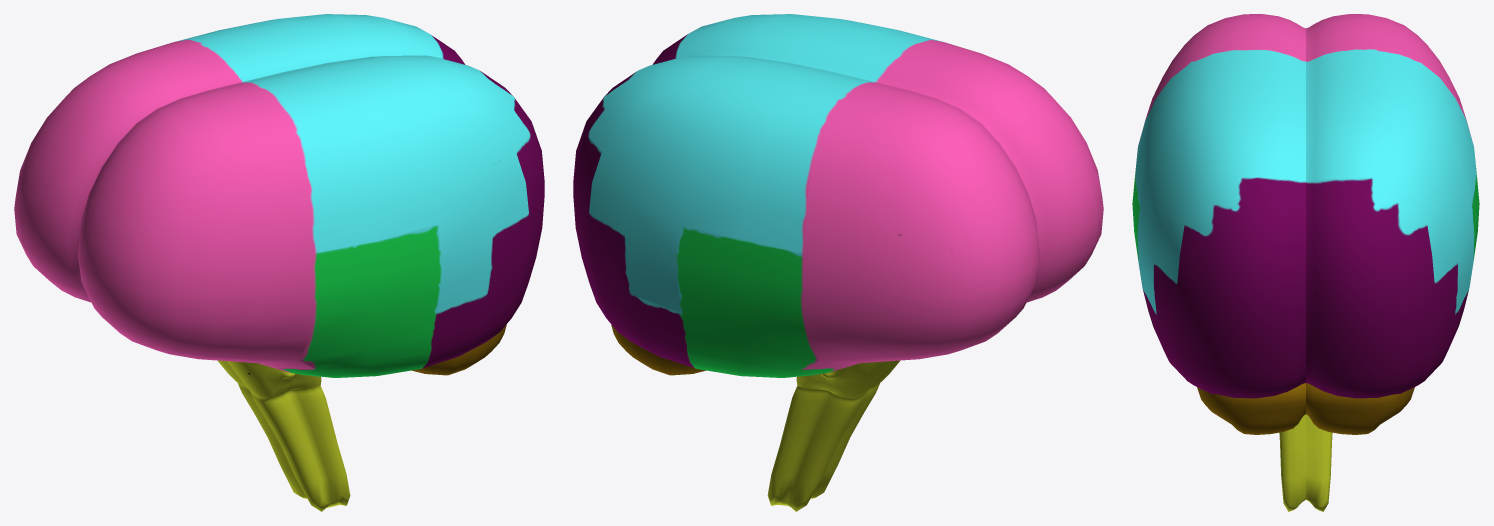
The model's file is Brain.FBX.
3 views of the same model, side by side, from view 1: azimuth 30°, elevation 25°; view 2: azimuth 150°, elevation 25°; view 3: azimuth 270°, elevation 25° (orthographic). The views are drawn at different scales.
Visible parts, largest first — view 1: front_left, top_left, front_right, bottom_left, Top_right, back_left, brainstem_left, brainstem_right, cerebellum_left; view 2: front_right, Top_right, front_left, bottom_right, top_left, Back_right, brainstem_right, brainstem_left, cerebellum_right; view 3: Back_right, back_left, Top_right, top_left, front_right, front_left, cerebellum_left, cerebellum_right, brainstem_left, brainstem_right.
Part boxes in pixels (box(x1,y1,x2,y2)): front_left: box(78, 82, 315, 371); top_left: box(241, 55, 530, 313); front_right: box(14, 40, 240, 302); bottom_left: box(278, 224, 440, 377); Top_right: box(175, 14, 441, 82); back_left: box(421, 71, 544, 368); brainstem_left: box(227, 361, 350, 511); brainstem_right: box(218, 360, 307, 498); cerebellum_left: box(412, 324, 506, 375); front_right: box(802, 82, 1039, 371); Top_right: box(587, 55, 876, 313); front_left: box(877, 40, 1103, 302); bottom_right: box(677, 224, 839, 377); top_left: box(676, 14, 942, 82); Back_right: box(573, 71, 696, 368); brainstem_right: box(767, 361, 890, 511); brainstem_left: box(810, 360, 899, 498); cerebellum_right: box(611, 324, 705, 375); Back_right: box(1306, 177, 1469, 398); back_left: box(1142, 177, 1305, 398); Top_right: box(1306, 49, 1476, 313); top_left: box(1135, 49, 1305, 313); front_right: box(1306, 14, 1466, 119); front_left: box(1145, 14, 1305, 119); cerebellum_left: box(1197, 383, 1305, 434); cerebellum_right: box(1306, 383, 1414, 434); brainstem_left: box(1279, 414, 1305, 511); brainstem_right: box(1306, 414, 1332, 511).
Bounding box in the file's own units: 84.42 × 81.44 × 61.25.
Materials: 3 (3 with a texture image).
